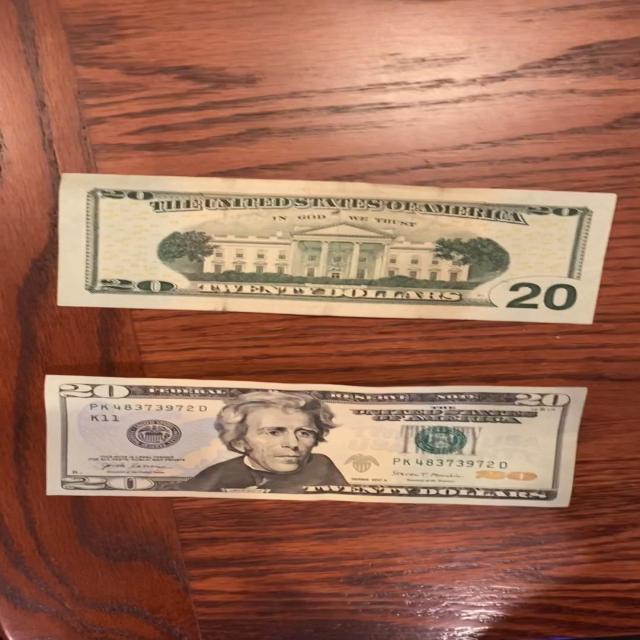20-Back: (49, 164, 626, 330)
20-Front: (38, 364, 614, 520)
